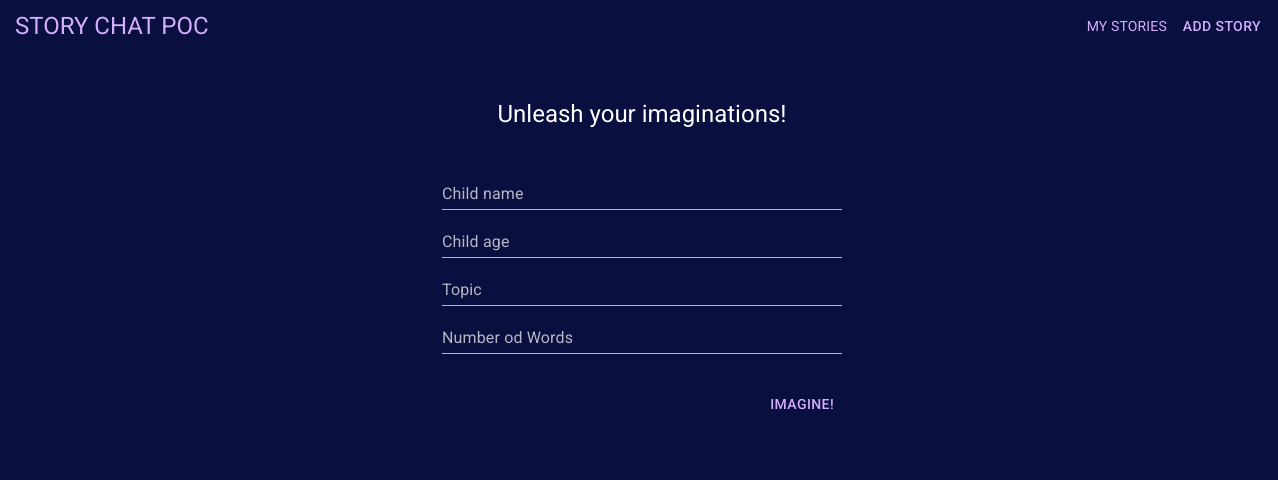
AddStory › Should disable form and show loader during request
Step 1. Type "Namo Mandos" into the field labelled "Child name" → (642, 194), box [442,178,842,210]
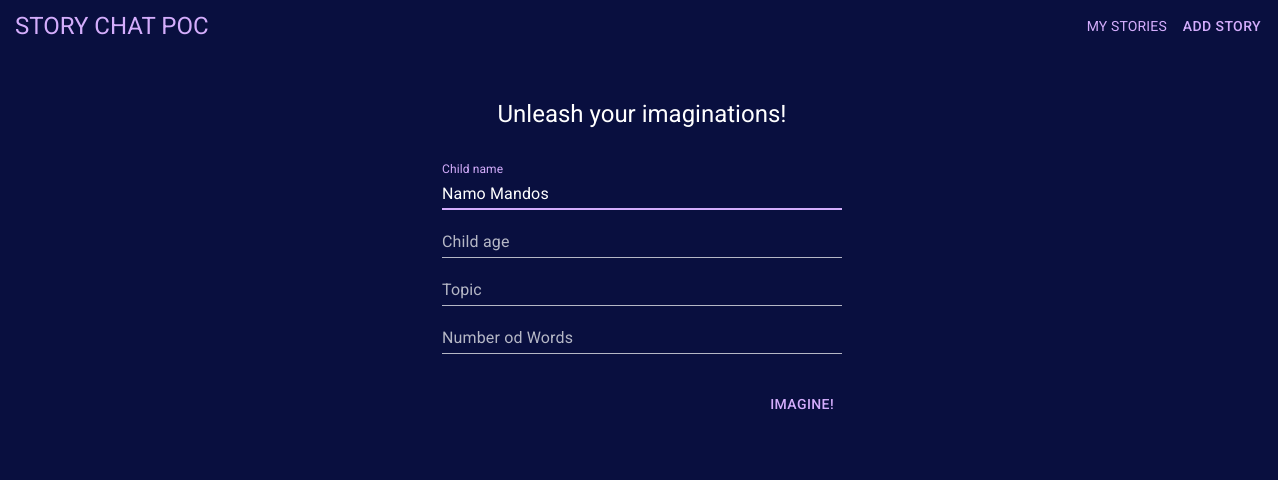
Step 2. Type "6" into the field labelled "Child age" → (642, 242), box [442,226,842,258]
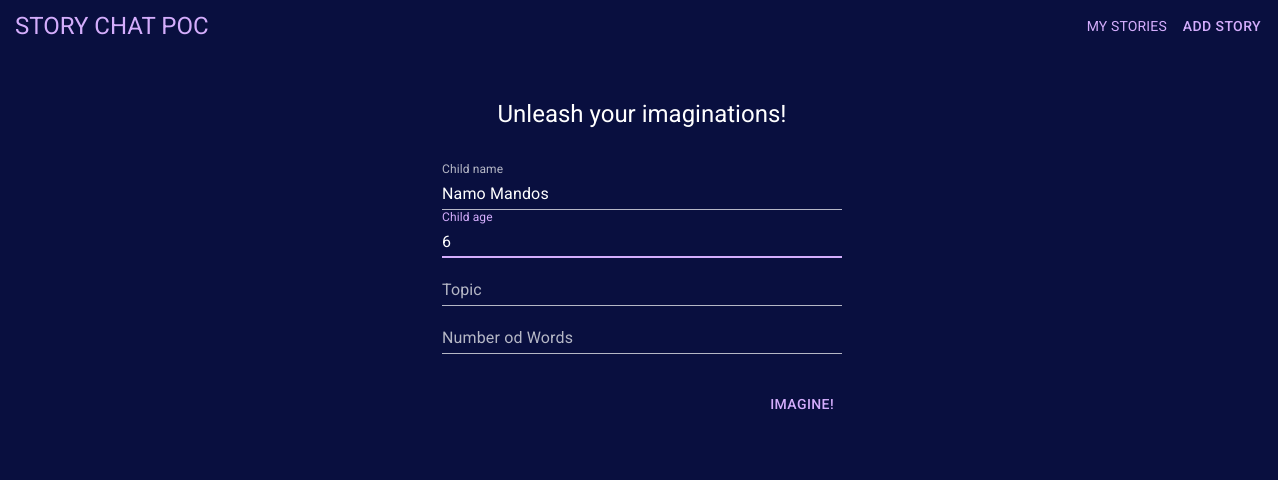
Step 3. Type "Halls of Mandos, doom, Noldors" into the field labelled "Topic" → (642, 290), box [442,274,842,306]
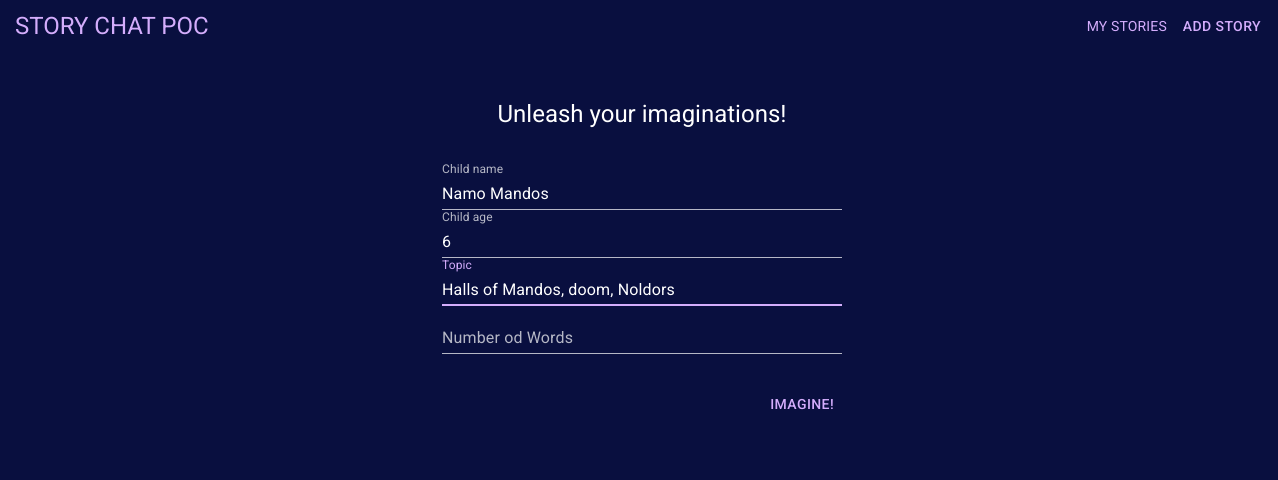
Step 4. Type "168" into the field labelled "Number od Words" → (642, 338), box [442,322,842,354]
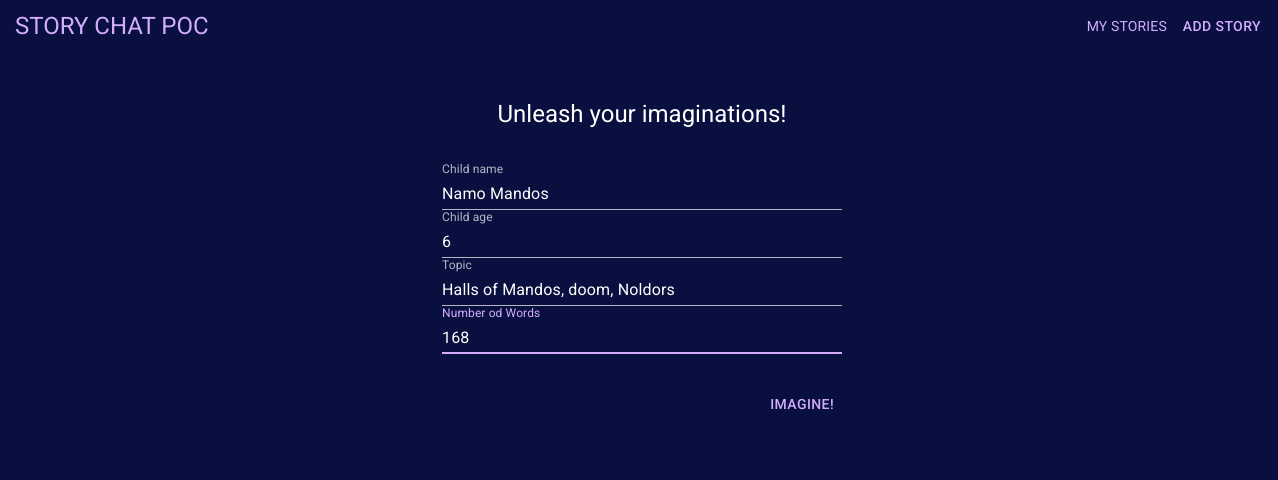
Step 5. Click the button "Imagine!" → (802, 405), box [762,386,842,423]
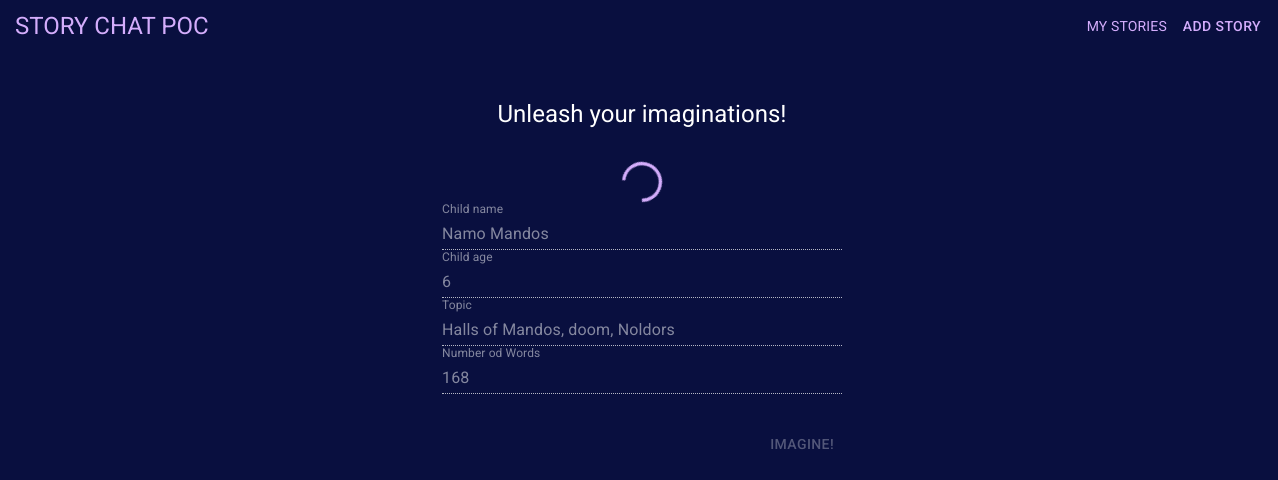
Check: the button "Imagine!" is disabled, box [762,426,842,463]
